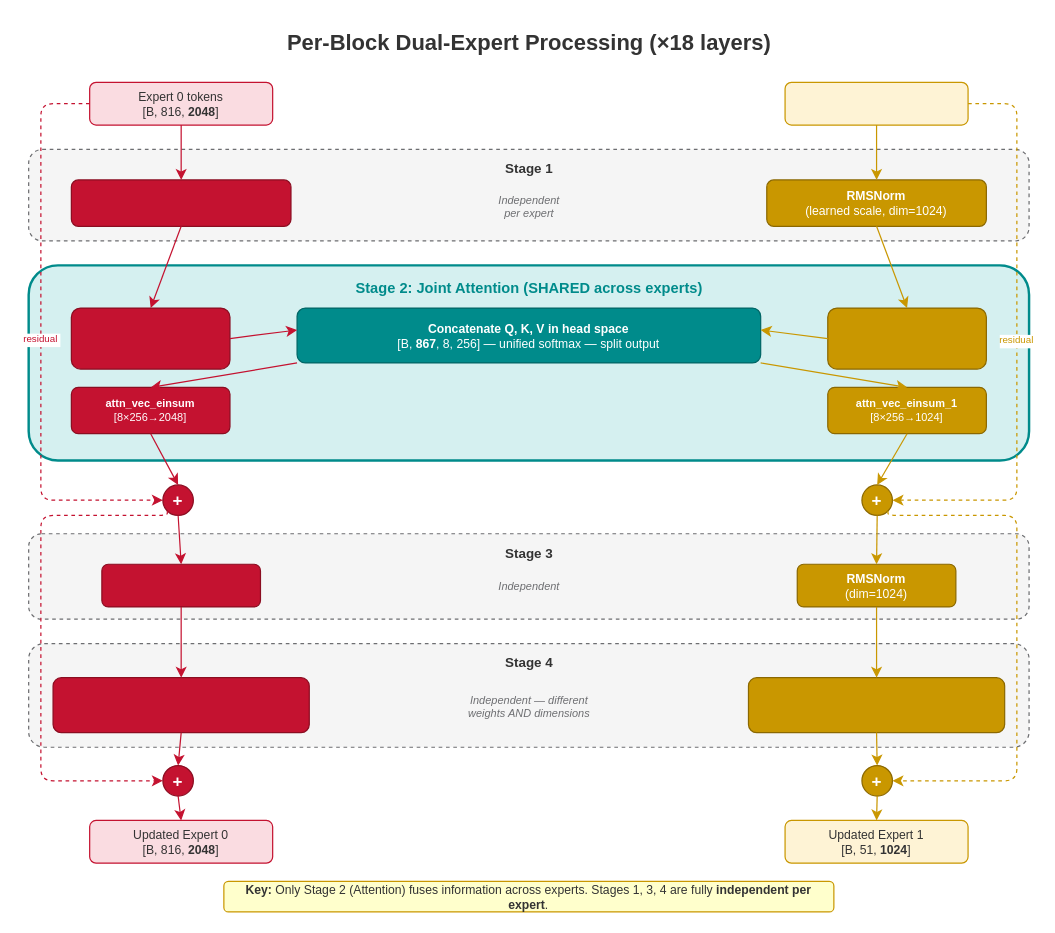
Image size: 1055x933. Some labels were removed from this diagram. Each missing label, with the centre of its shape:
"Expert 1 tokens [B, 51, 1024 ]" belongs at (876,103).
"Feed-Forward (+ LoRA) 1024 → 4,096 → 1024 Gated GELU" belongs at (876,704).
"Feed-Forward (+ LoRA) 2048 → 16,384 → 2048 Gated GELU" belongs at (180,704).
"Q₀, K₀, V₀ q_einsum [2048→8×256]" belongs at (150,338).
"Q₁, K₁, V₁ q_einsum_1 [1024→8×256]" belongs at (906,338).
"RMSNorm (dim=2048)" belongs at (180,585).
"RMSNorm (learned scale, dim=2048)" belongs at (180,202).
